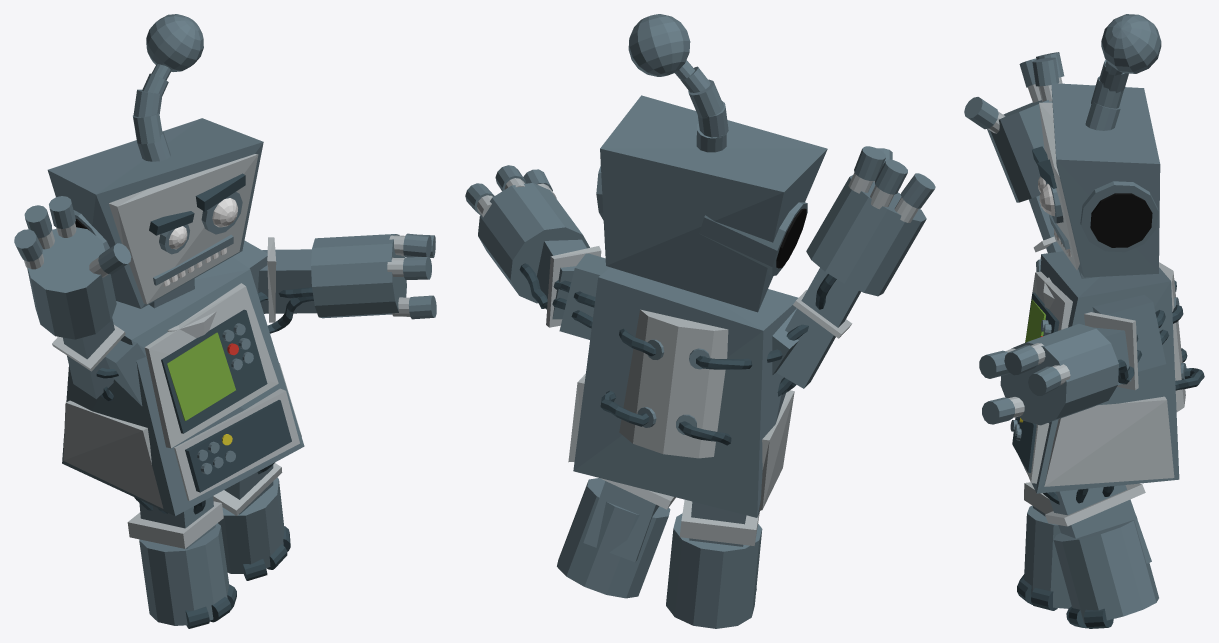
3 views of the same model, side by side, from view 1: azimuth 30°, elevation 25°; view 2: azimuth 150°, elevation 25°; view 3: azimuth 270°, elevation 25° (orthographic). The views are drawn at different scales.
Visible parts, largest first — view 1: node_MeshObject1286675456-PolyPaper16; view 2: node_MeshObject1286675456-PolyPaper16; view 3: node_MeshObject1286675456-PolyPaper16.
Part boxes in pixels (left/top/right/bottom): node_MeshObject1286675456-PolyPaper16: left=14, top=14, right=436, bottom=628; node_MeshObject1286675456-PolyPaper16: left=465, top=14, right=935, bottom=628; node_MeshObject1286675456-PolyPaper16: left=964, top=14, right=1204, bottom=628.
Bounding box in the file's own units: 7.75 × 9.87 × 3.63.
